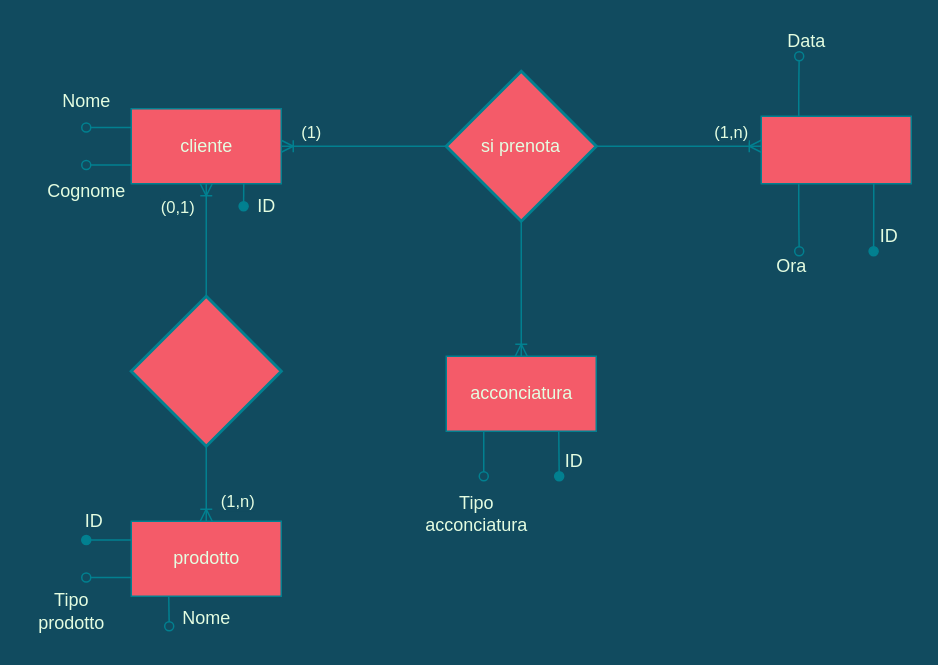
Some shapes in this 938 by 665 pixel diagram are drawn without their labels. Each missing label, with the centre of its shape:
compra: point 205,370
prenotazione: point 835,149
